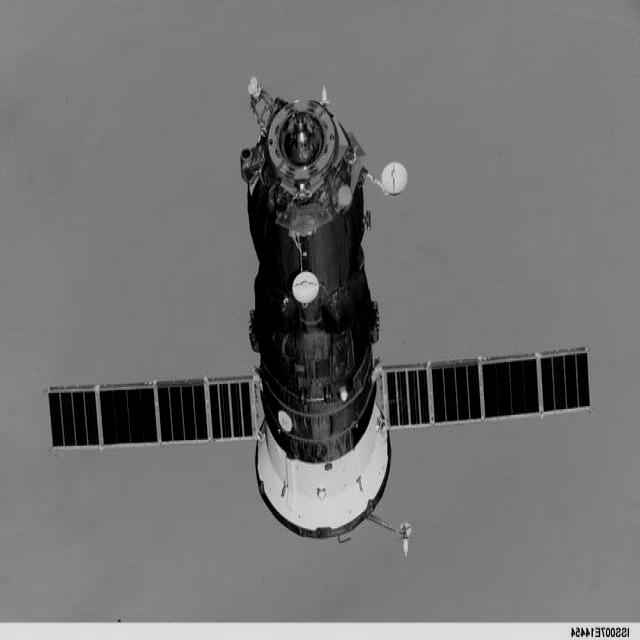medium_debris: (48, 77, 590, 551)
